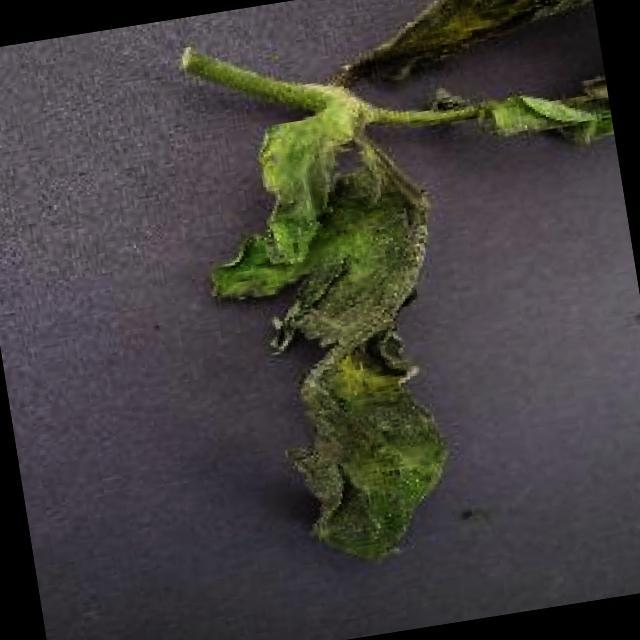Tomato late blight leaf: (190, 98, 480, 588), (331, 0, 600, 88)
